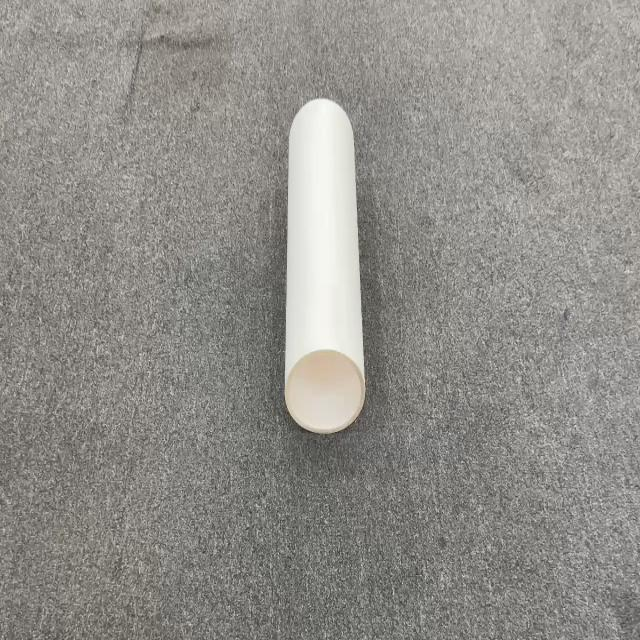coral: (283, 96, 366, 434)
